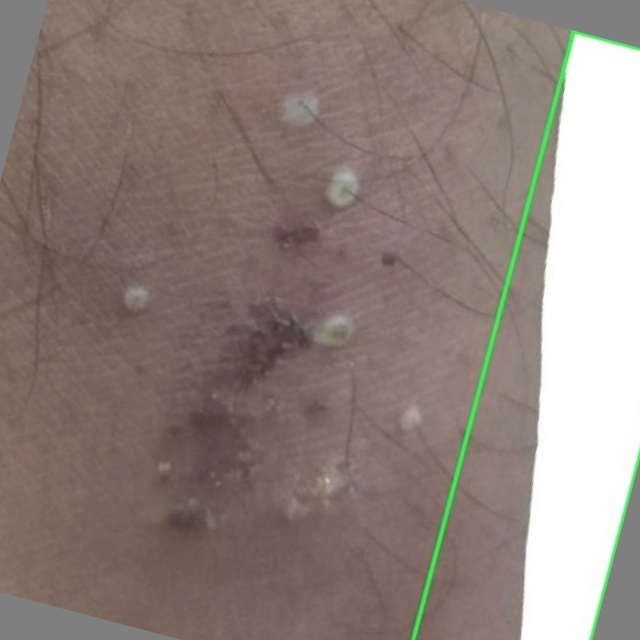Eczema: (413, 31, 639, 639)
